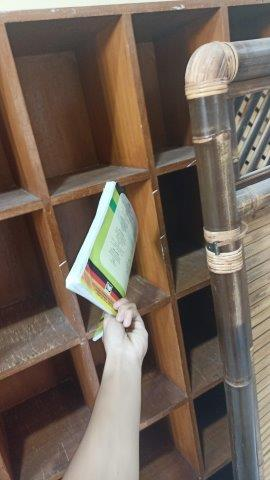kertas: (62, 177, 140, 343)
